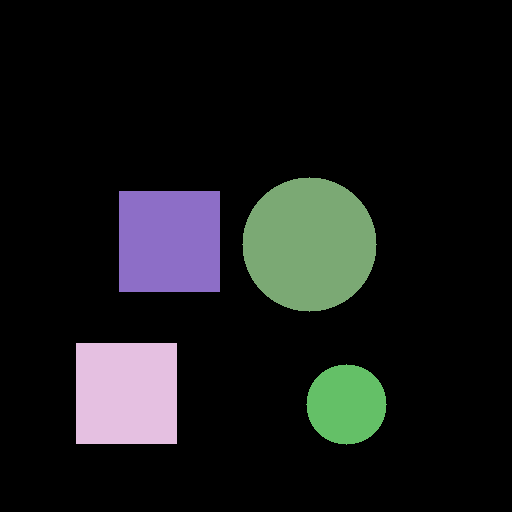circle: (242, 177, 376, 311), (306, 364, 386, 444)
square: (76, 343, 176, 443), (119, 191, 219, 291)
